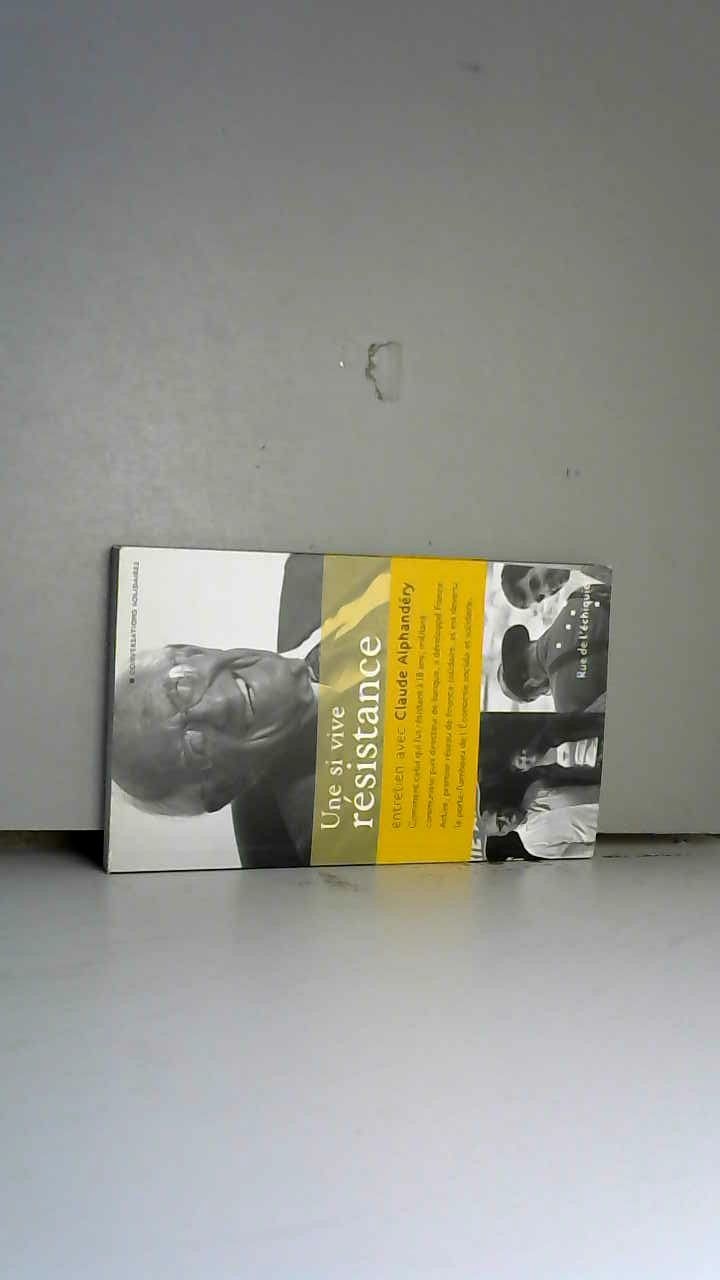book: (86, 526, 621, 895)
